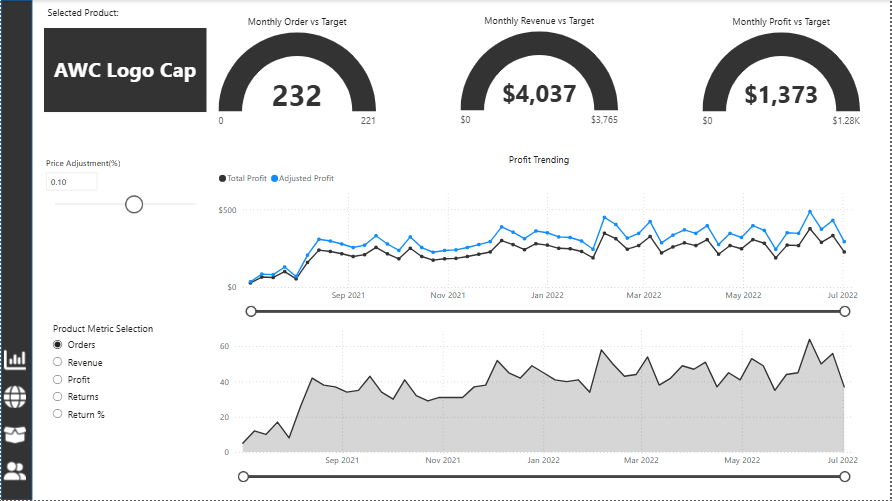

Layout of this report page (visuals, bound fields, positions):
{"tool":"powerbi","page":{"name":"Product Detail","canvas":[1280,720],"ordinal":2},"visuals":[{"type":"shape","box":[0,0,45,720.3],"z":0},{"type":"actionButton","box":[0,497.8,44.6,40.3],"z":0,"group":"g1"},{"type":"card","fields":{"Values":["Min(Product Lookup.ProductName)"]},"box":[61.8,39.7,233.8,120.6],"z":1000},{"type":"actionButton","box":[0,605.3,44.6,40.3],"z":1000,"group":"g1"},{"type":"gauge","title":"Monthly Order vs Target","fields":{"Y":["Measure Table.Total Orders"],"MaxValue":["Measure Table.Order Target"]},"box":[308.8,21,236.8,173.5],"z":2000},{"type":"actionButton","box":[0,658.2,44.6,40.3],"z":2000,"group":"g1"},{"type":"gauge","title":"Monthly Revenue vs Target","fields":{"Y":["Measure Table.Total Revenue"],"MaxValue":["Measure Table.Revenue Target"]},"box":[656.6,20.6,236.8,173.5],"z":3000},{"type":"actionButton","box":[0,551.6,44.6,40.3],"z":3000,"group":"g1"},{"type":"gauge","title":"Monthly Profit vs Target","fields":{"Y":["Measure Table.Total Profit"],"MaxValue":["Measure Table.Profit Target"]},"box":[1004.4,21,236.8,173.5],"z":4000},{"type":"lineChart","title":"Profit Trending","fields":{"Category":["Calendar Lookup.Calendar Hierarchy.Start of Year","Calendar Lookup.Calendar Hierarchy.Start of Month","Calendar Lookup.End of Week","Calendar Lookup.Date"],"Y":["Measure Table.Total Profit","Measure Table.Adjusted Profit"]},"box":[308.2,220.3,933.1,239],"z":5000},{"type":"areaChart","title":"Returns Trending","fields":{"Y":["Measure Table.Total Orders"],"Category":["Calendar Lookup.Calendar Hierarchy.Start of Year","Calendar Lookup.Calendar Hierarchy.Start of Month","Calendar Lookup.End of Week","Calendar Lookup.Date"]},"box":[308.2,459.4,933.1,237.6],"z":6000},{"type":"textbox","box":[61.8,4.4,157.4,35.3],"z":8000},{"type":"group","id":"g1","title":"Navigation Buttons","box":[0,497.8,44.6,200.7],"z":9000},{"type":"slicer","fields":{"Values":["Price Adjustment(%).Price Adjustment(%)"]},"box":[51.8,220.3,252,144],"z":10000},{"type":"slicer","fields":{"Values":["Product Metric Selection.Product Metric Selection"]},"box":[61.9,459.4,233.3,165.6],"z":11000}]}

Visuals, with their boxes on the page's 1280x720 design canvas (x1, y1, x2, y2). These are canvas units, not pixel positions in the 892x501 screenshot, which may show the page scaled, cropped or inside an application window:
shape: 0:0:45:720
actionButton: 0:498:45:538
card - Min(Product Lookup.ProductName): 62:40:296:160
actionButton: 0:605:45:646
"Monthly Order vs Target" gauge: 309:21:546:194
actionButton: 0:658:45:698
"Monthly Revenue vs Target" gauge: 657:21:893:194
actionButton: 0:552:45:592
"Monthly Profit vs Target" gauge: 1004:21:1241:194
"Profit Trending" lineChart: 308:220:1241:459
"Returns Trending" areaChart: 308:459:1241:697
textbox: 62:4:219:40
"Navigation Buttons" group: 0:498:45:698
slicer - Price Adjustment(%).Price Adjustment(%): 52:220:304:364
slicer - Product Metric Selection.Product Metric Selection: 62:459:295:625
